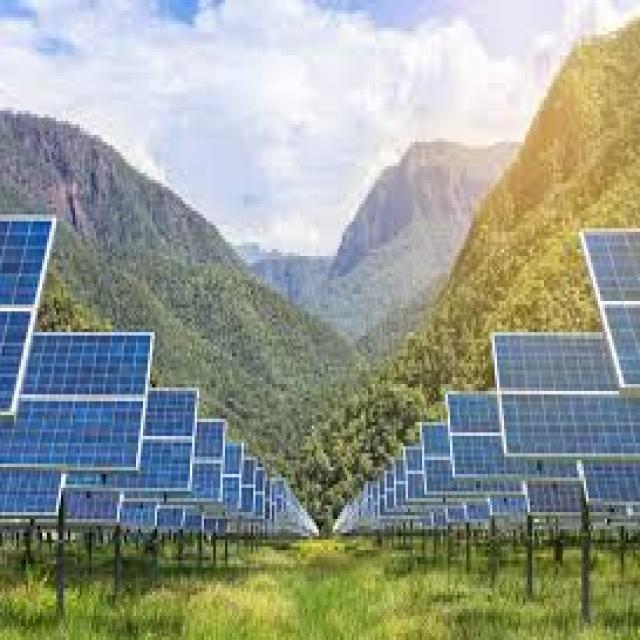clean-solar-panel: (0, 334, 152, 467), (494, 334, 640, 458), (583, 230, 640, 389), (139, 389, 197, 488), (448, 393, 509, 476)
